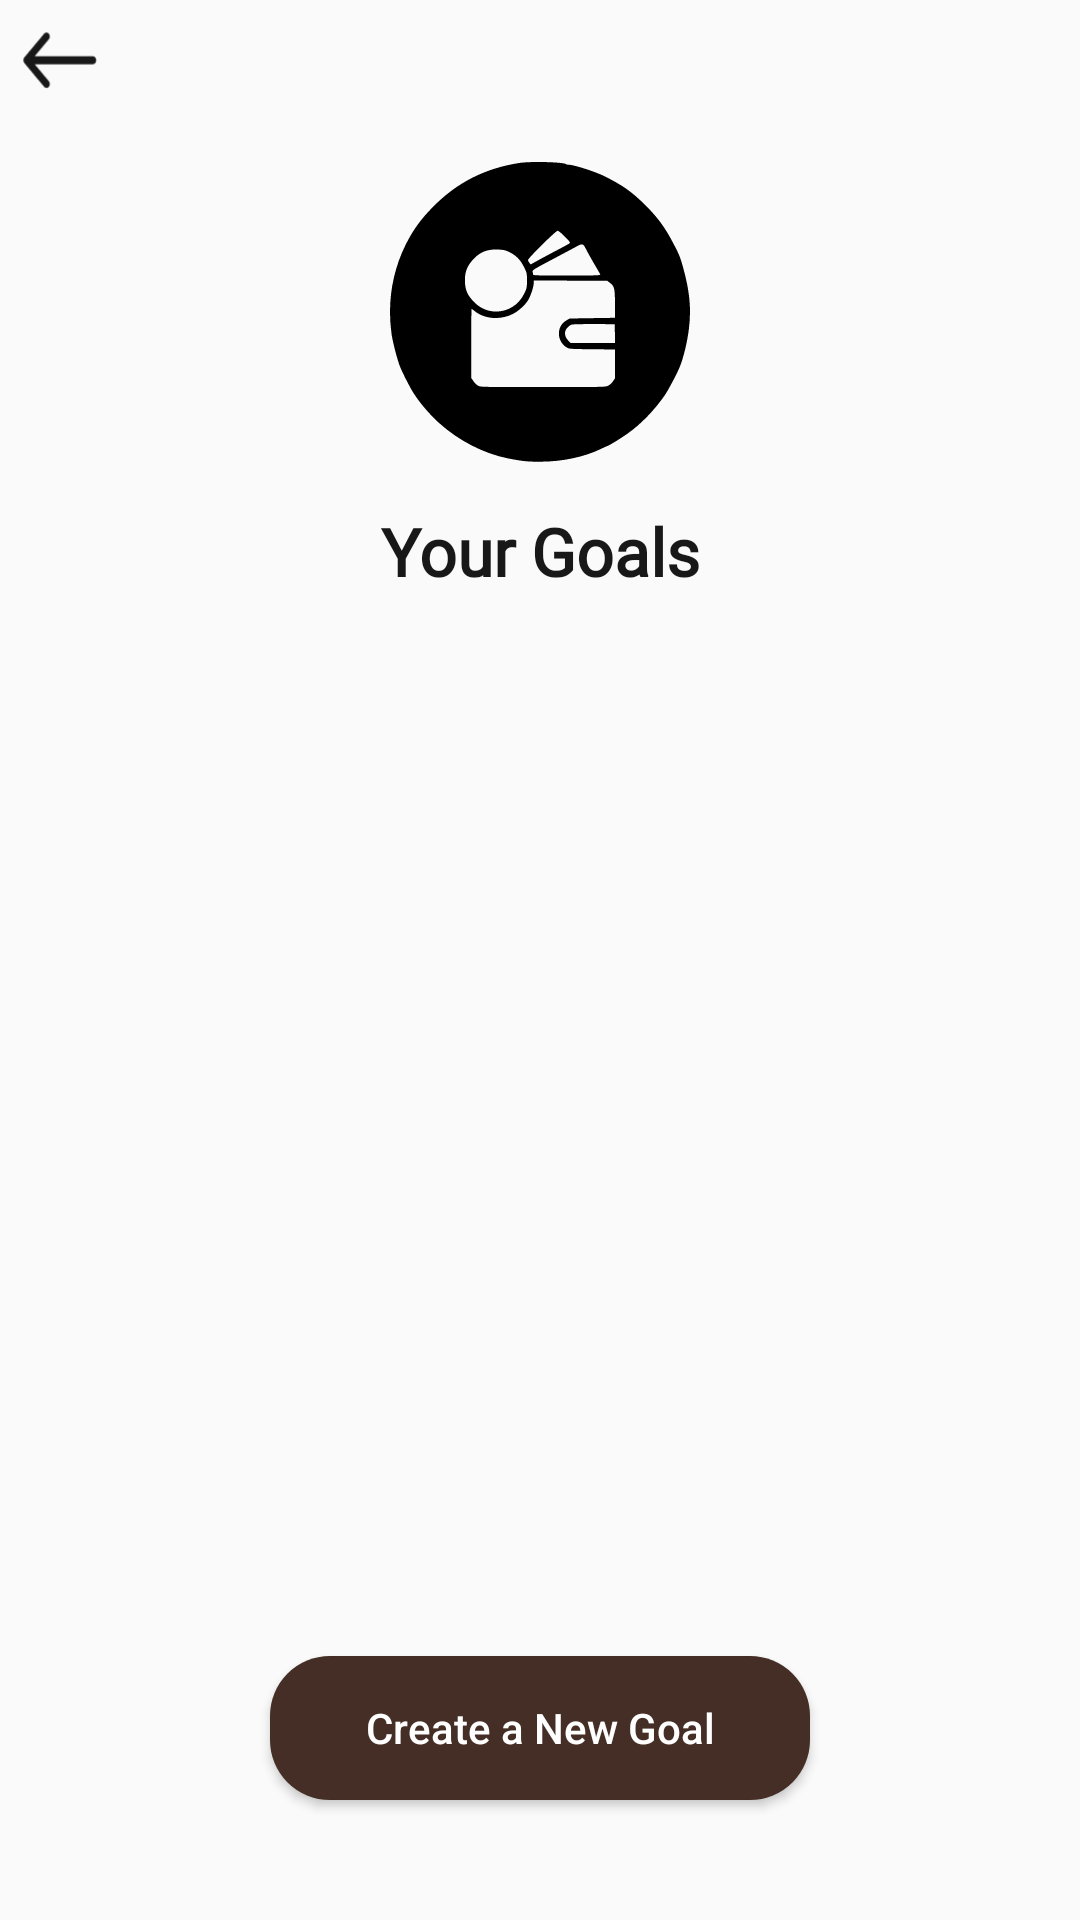

Icon click points for this 1080*1920 phone screenshot, format point (x, y):
left arrow: point (60, 60)
